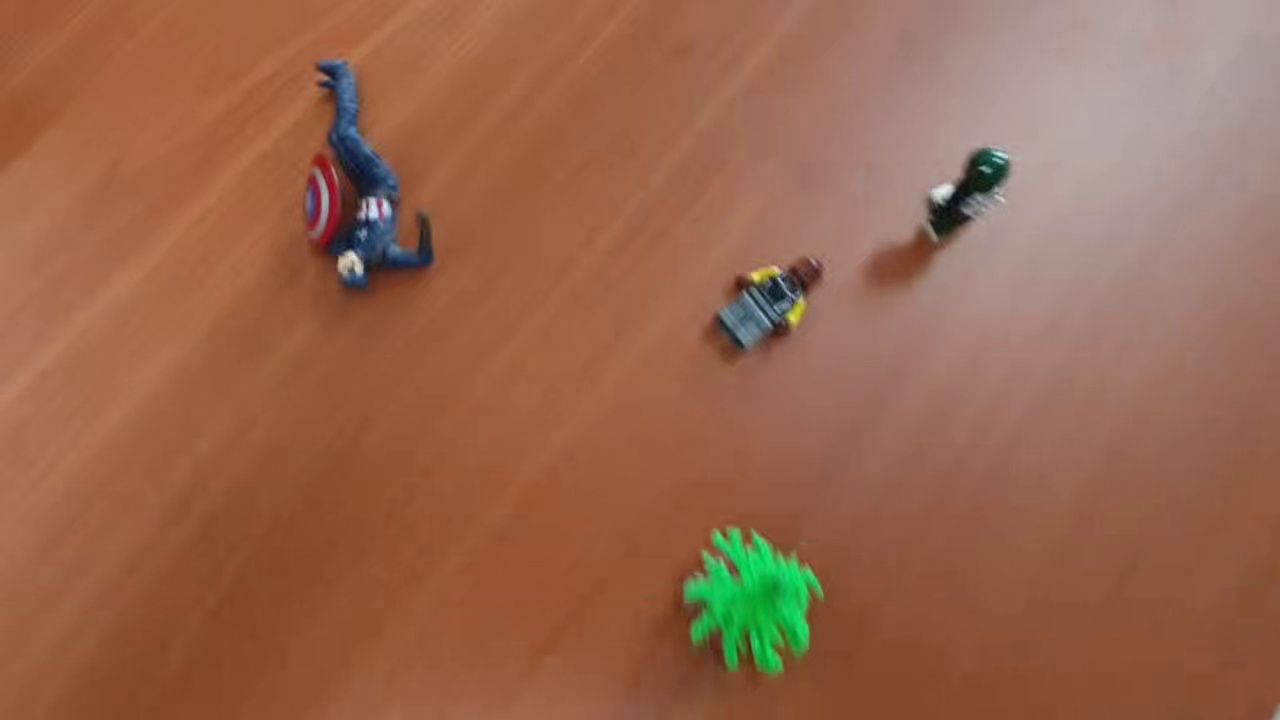people: (298, 52, 435, 296), (713, 253, 826, 349), (919, 147, 1013, 246)
tree: (682, 524, 822, 679)
